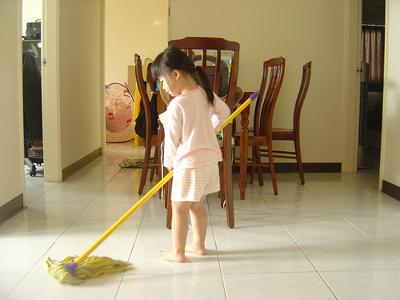person: (154, 47, 231, 265)
